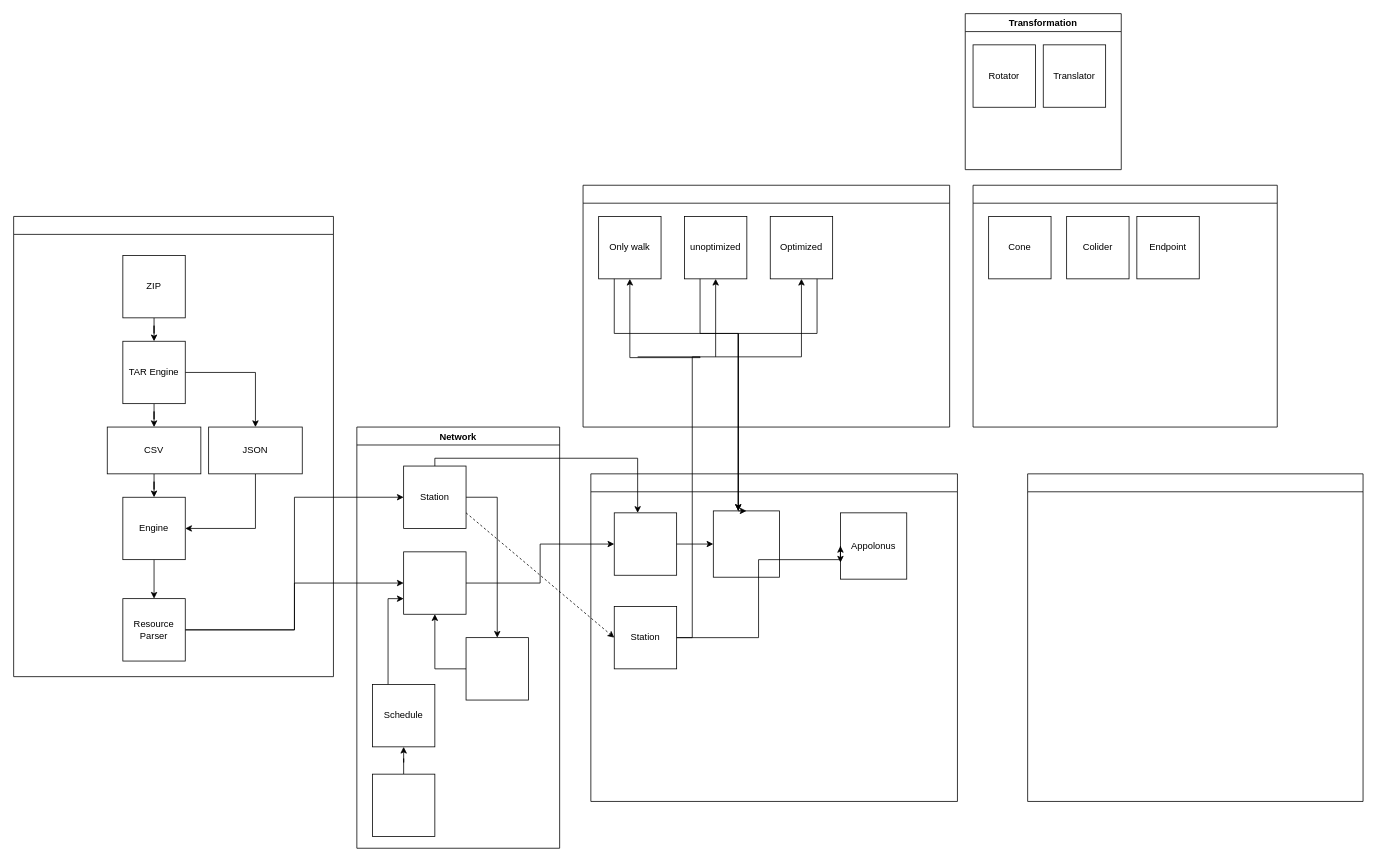
The diagram is 1377 pixels wide and 862 high, and some of its shapes have lost their labels. The shapes that lost their labels are listed below. From the top down, each one's box as (x1, y1, x2, y2) in pixels, then its label:
(582, 184, 950, 427): Reach Algorithm
(972, 184, 1277, 427): Conic
(13, 216, 333, 677): Ressource
(613, 512, 677, 575): Scheduled Network
(713, 510, 780, 577): Network_Reach
(403, 551, 466, 614): Scheduled Line
(590, 473, 957, 801): Context
(1027, 473, 1363, 801): Appolonus Algorithm
(465, 637, 528, 700): Line
(372, 773, 435, 837): Timetable
